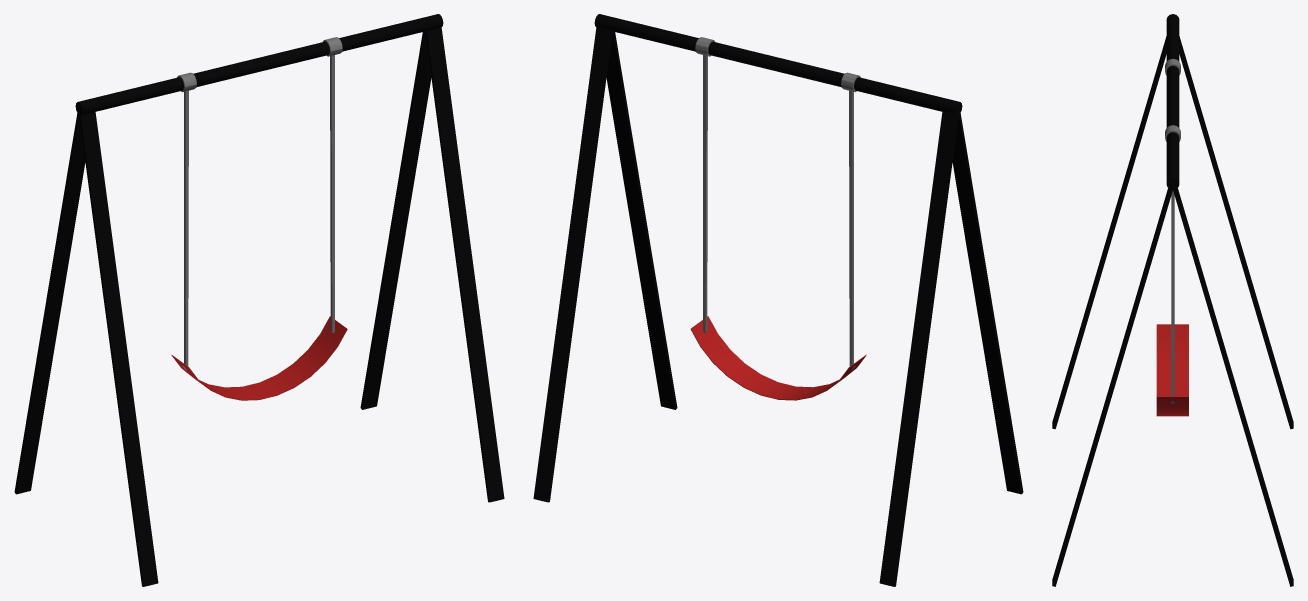
The model's file is swing_002.obj.
The picture shows the model from 3 angles, left to right: view 1: azimuth 30°, elevation 25°; view 2: azimuth 150°, elevation 25°; view 3: azimuth 270°, elevation 25°; orthographic projection. The views are drawn at different scales.
Visible parts, largest first — view 1: Cylinder001, axle_slip2, Cylinder002; view 2: Cylinder001, axle_slip2, Cylinder002; view 3: Cylinder001, Cylinder002, axle_slip2.
Boxes of the visible parts, bbox=[...] form: Cylinder001: bbox=[14, 14, 504, 586]; axle_slip2: bbox=[177, 37, 342, 370]; Cylinder002: bbox=[171, 316, 347, 400]; Cylinder001: bbox=[533, 14, 1023, 586]; axle_slip2: bbox=[695, 37, 860, 370]; Cylinder002: bbox=[690, 316, 866, 400]; Cylinder001: bbox=[1052, 14, 1293, 586]; Cylinder002: bbox=[1156, 324, 1188, 416]; axle_slip2: bbox=[1165, 59, 1180, 403].
Size of the model in its own units: 60 by 69.86 by 37.23.
